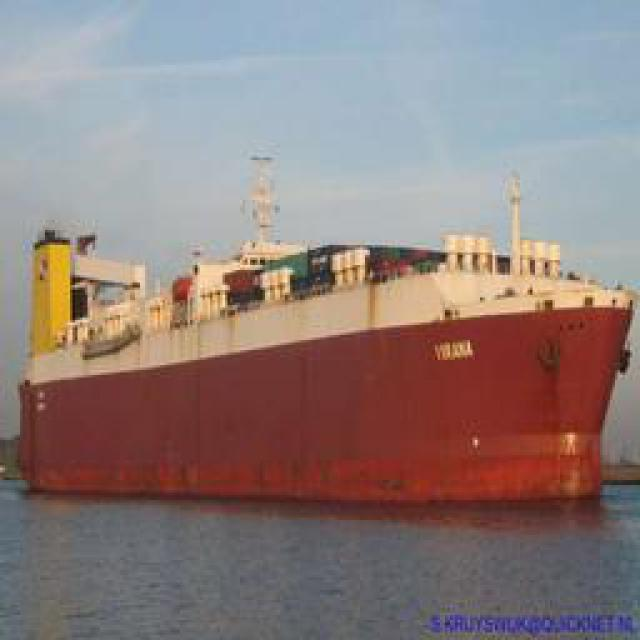Ship: (9, 143, 633, 511)
